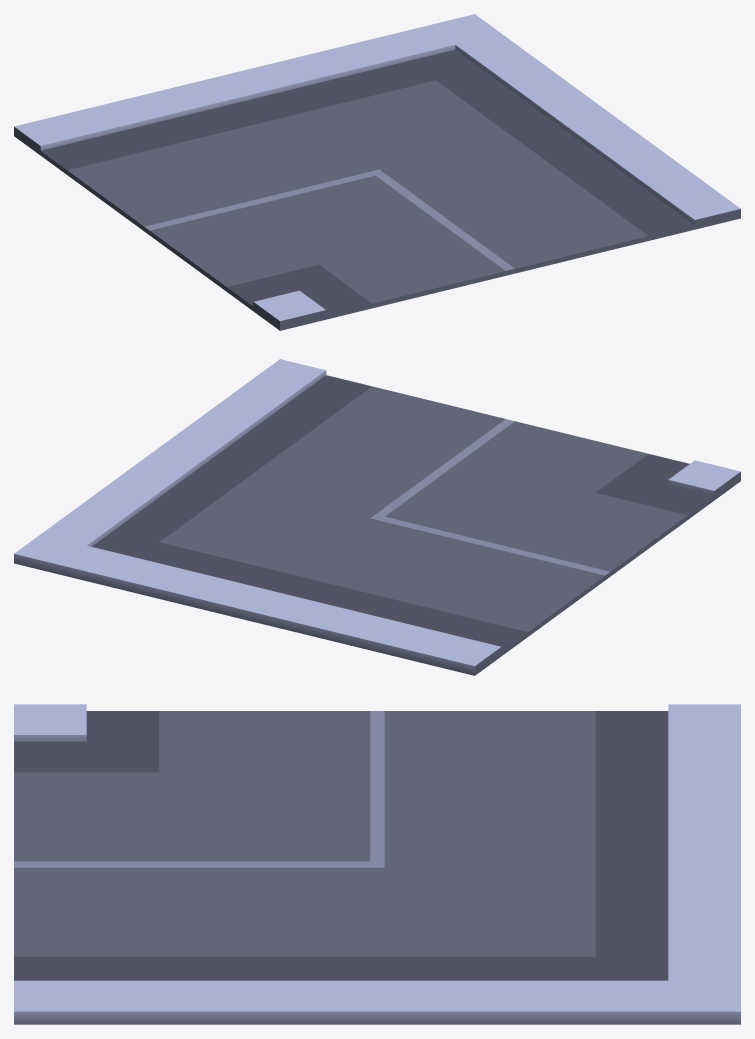
The model's file is road-bend-square.glb.
The picture shows the model from 3 angles, top to bottom: view 1: azimuth 30°, elevation 25°; view 2: azimuth 150°, elevation 25°; view 3: azimuth 270°, elevation 25°; orthographic projection. The views are drawn at different scales.
Visible parts, largest first — view 1: road-bend-square; view 2: road-bend-square; view 3: road-bend-square.
Boxes of the visible parts, x1=… form: road-bend-square: x1=14, y1=14, x2=740, y2=330; road-bend-square: x1=14, y1=359, x2=740, y2=675; road-bend-square: x1=14, y1=704, x2=740, y2=1024.
Bounding box in the file's own units: 1 × 0.02 × 1.
Materials: 1 (1 with a texture image).
